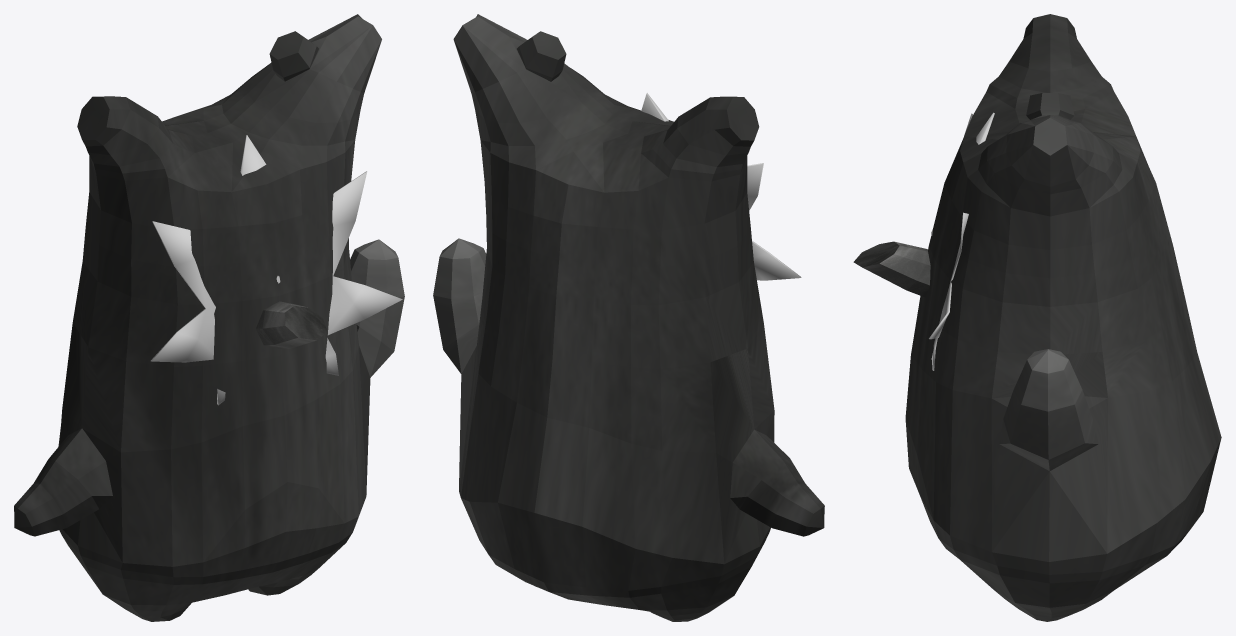
The model's file is frame_0078.obj.
3 renders of one model, left to right at view 1: azimuth 30°, elevation 25°; view 2: azimuth 150°, elevation 25°; view 3: azimuth 270°, elevation 25°, orthographic. The views are drawn at different scales.
Visible parts, largest first — view 1: korok, leaf, nose; view 2: korok, leaf; view 3: korok, nose, leaf.
Boxes of the visible parts, bbox=[...] form: korok: bbox=[14, 14, 404, 621]; leaf: bbox=[151, 135, 402, 405]; nose: bbox=[256, 301, 327, 348]; korok: bbox=[433, 14, 824, 621]; leaf: bbox=[641, 93, 801, 280]; korok: bbox=[905, 14, 1221, 621]; nose: bbox=[853, 241, 930, 297]; leaf: bbox=[929, 112, 994, 370].
Bounding box in the file's own units: 1.62 × 2.22 × 1.36.
